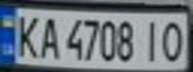0: (100, 17, 118, 63)
4: (63, 15, 84, 61)
7: (78, 16, 100, 62)
8: (115, 17, 139, 63)
A: (36, 13, 63, 60)
I: (139, 17, 166, 63)
K: (9, 11, 42, 60)
O: (157, 17, 190, 63)
